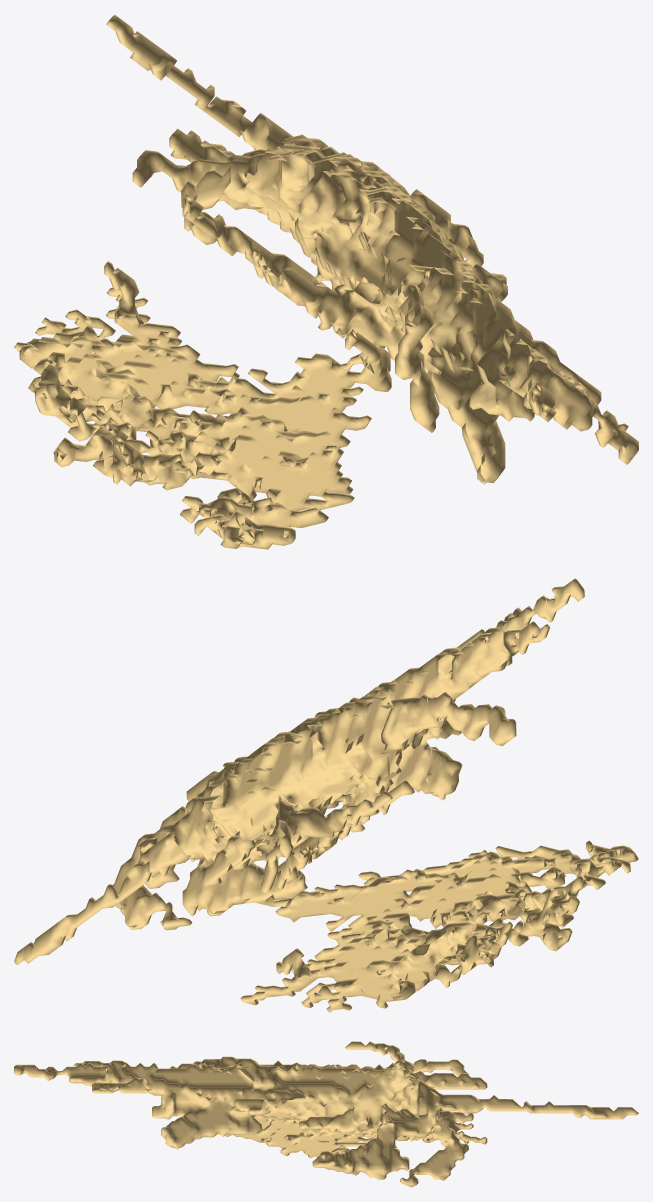
The model's file is osteocyte_13.glb.
3 views of the same model, one above another, from view 1: azimuth 30°, elevation 25°; view 2: azimuth 150°, elevation 25°; view 3: azimuth 270°, elevation 25° (orthographic). The views are drawn at different scales.
Visible parts, largest first — view 1: osteocyte_13; view 2: osteocyte_13; view 3: osteocyte_13.
Part boxes in pixels (x1,y1,x2,y2): osteocyte_13: (14, 14, 638, 549); osteocyte_13: (14, 578, 638, 1012); osteocyte_13: (14, 1041, 638, 1187).
Bounding box in the file's own units: 26.48 × 12.04 × 65.48.
